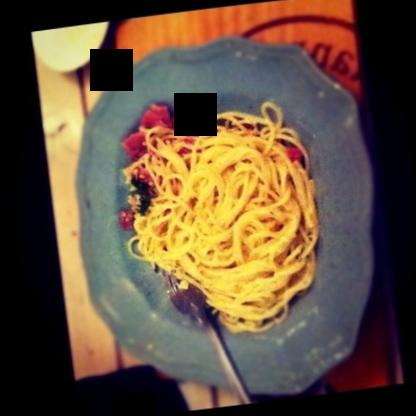pasta: (115, 94, 318, 340)
